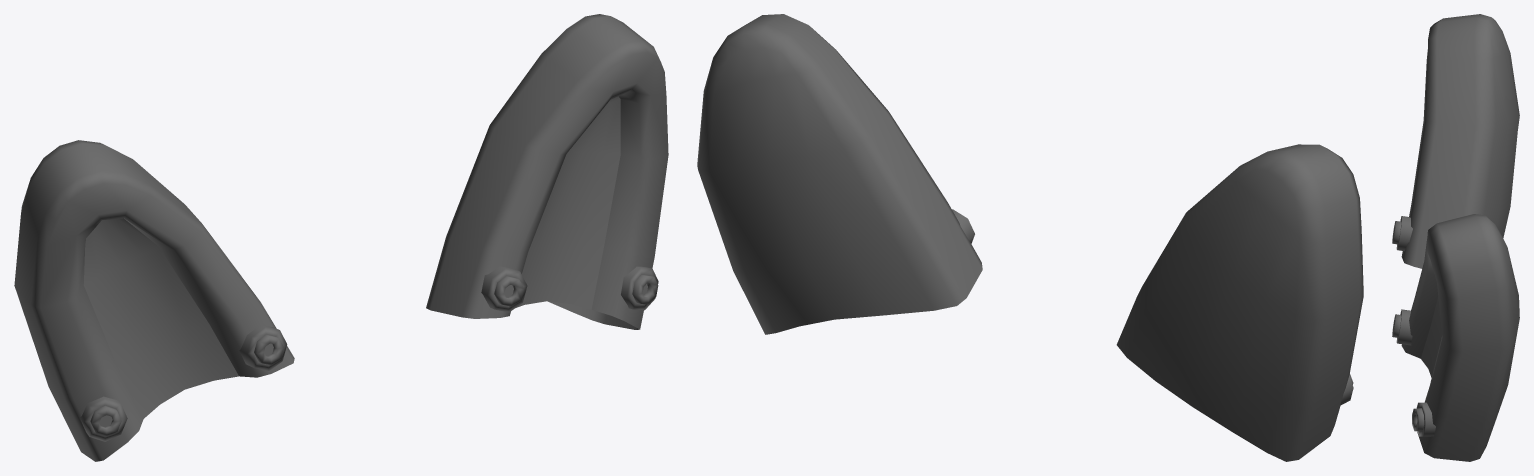
Rendered from Cat_low.fbx.
3 renders of one model, left to right at view 1: azimuth 30°, elevation 25°; view 2: azimuth 150°, elevation 25°; view 3: azimuth 270°, elevation 25°, orthographic. The views are drawn at different scales.
Parts seen in each view (by area): view 1: Cat_low; view 2: Cat_low; view 3: Cat_low.
Part boxes in pixels (left/top/right/bottom): Cat_low: left=14, top=14, right=668, bottom=461; Cat_low: left=697, top=14, right=1363, bottom=461; Cat_low: left=1392, top=14, right=1519, bottom=461.
Size of the model in its own units: 73.09 by 33.53 by 16.01.
